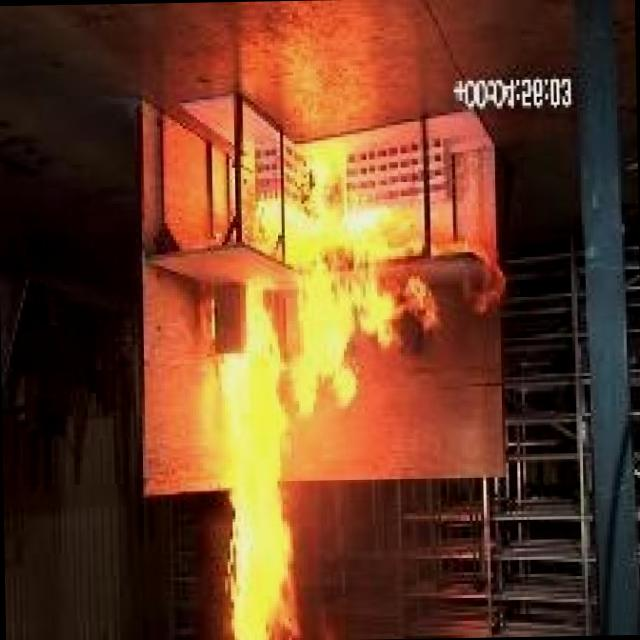fire: (128, 119, 514, 640)
